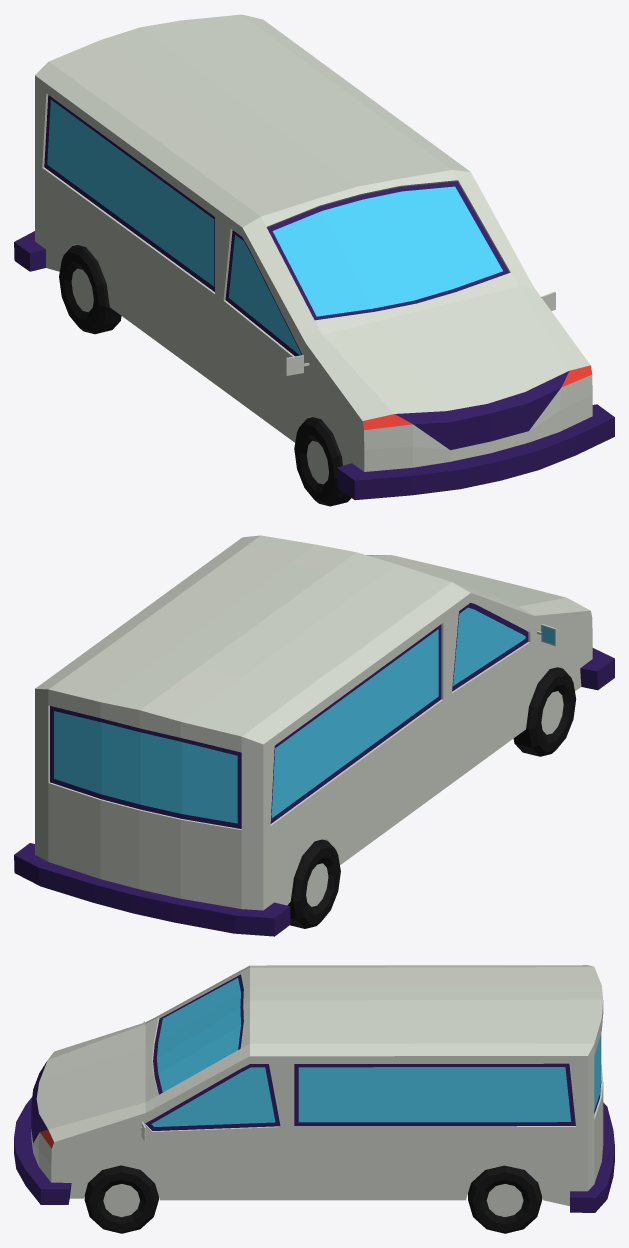
Rendered from car7.glb.
3 renders of one model, top to bottom at view 1: azimuth 30°, elevation 25°; view 2: azimuth 150°, elevation 25°; view 3: azimuth 270°, elevation 25°, orthographic. The views are drawn at different scales.
Visible parts, largest first — view 1: body.002, tire2.001, tire1.003; view 2: body.002, tire1.003, tire2.001; view 3: body.002, tire2.001, tire1.003.
Boxes of the visible parts, x1,y1,x2,y2 form: body.002: (14,14,614,500); tire2.001: (59,245,121,334); tire1.003: (294,417,351,506); body.002: (14,535,614,936); tire1.003: (513,667,576,756); tire2.001: (287,839,340,928); body.002: (14,965,614,1212); tire2.001: (468,1165,542,1233); tire1.003: (84,1165,158,1233).
Bounding box in the file's own units: 2.37 × 1.95 × 5.62.
